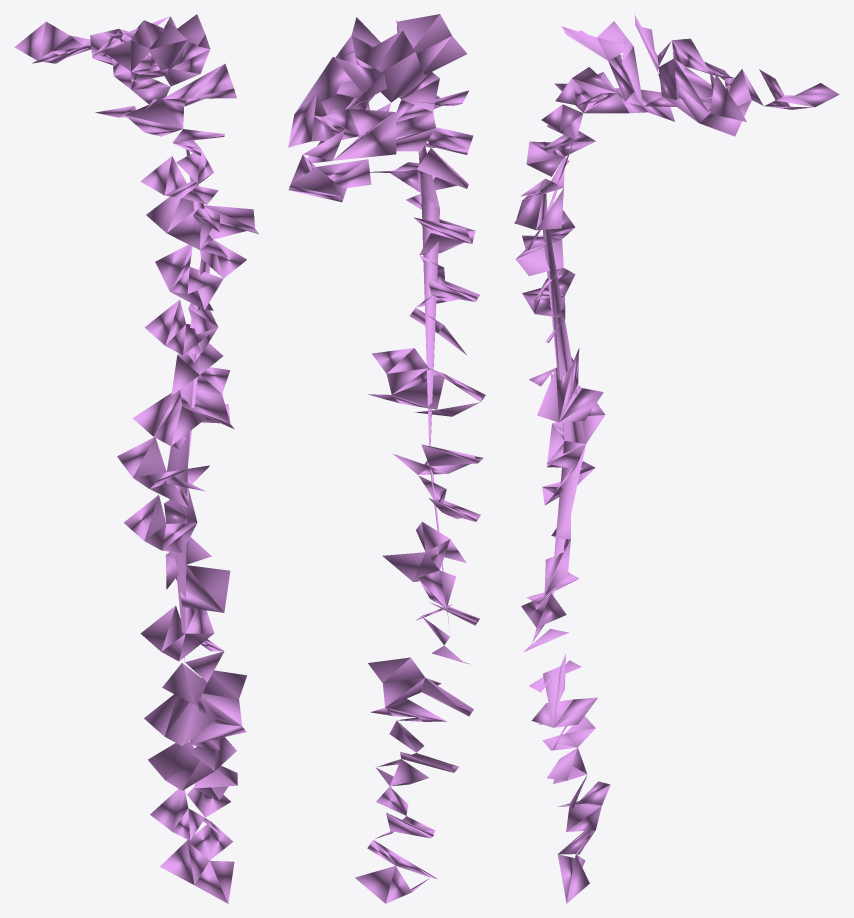
The model's file is plant1.fbx.
The picture shows the model from 3 angles, left to right: view 1: azimuth 30°, elevation 25°; view 2: azimuth 150°, elevation 25°; view 3: azimuth 270°, elevation 25°; orthographic projection. The views are drawn at different scales.
Parts seen in each view (by area): view 1: plant3; view 2: plant3; view 3: plant3.
Boxes of the visible parts, <box> form: plant3: <box>14,14,259,903</box>; plant3: <box>288,14,485,903</box>; plant3: <box>514,14,839,903</box>.
Size of the model in its own units: 92.01 by 635 by 216.
